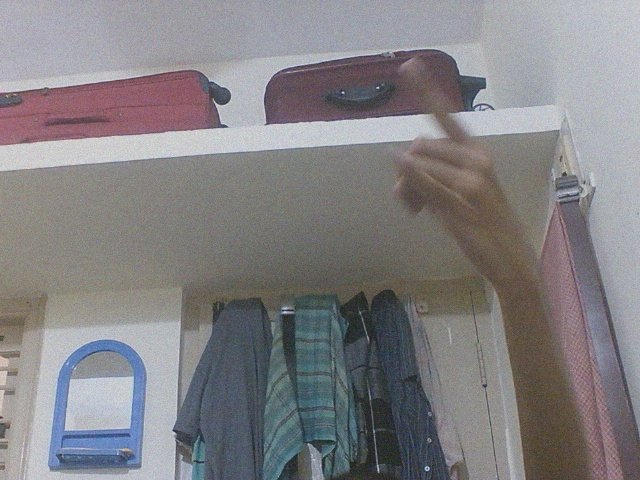hand: (382, 51, 531, 311)
